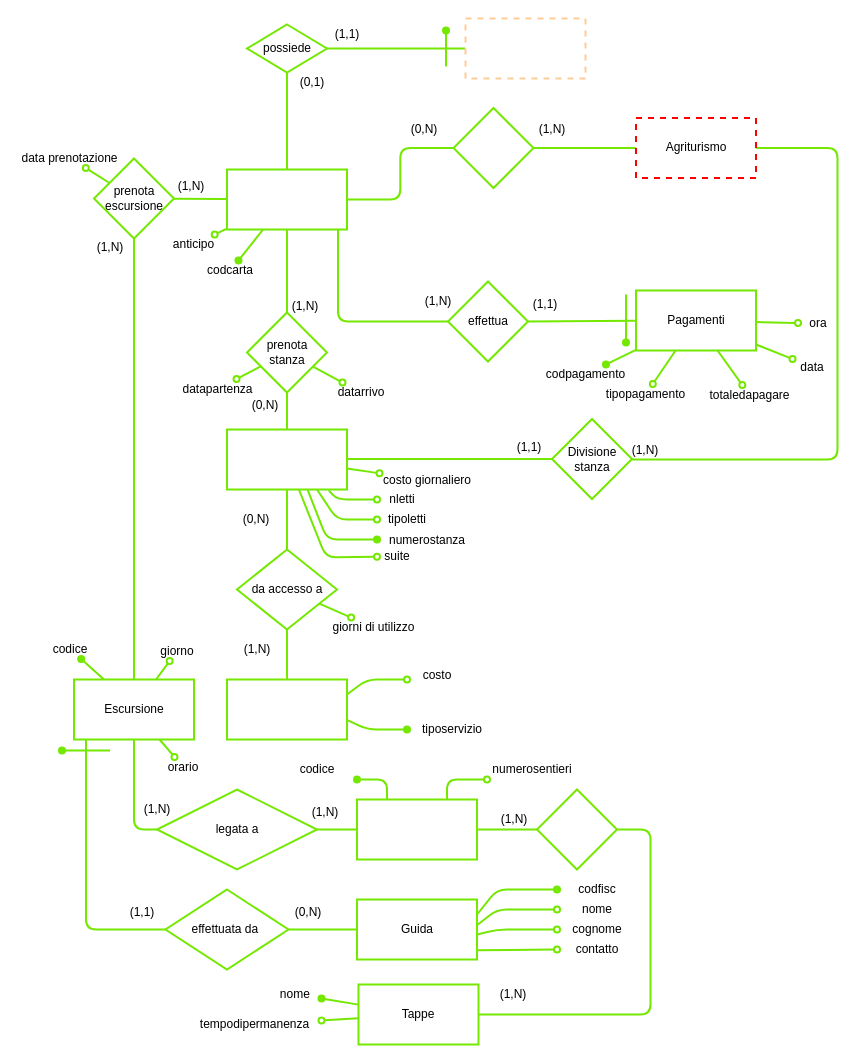
This 856x1062 diagram has some shape labels left out. The shapes that lost their labels are listed below. From the top down, each one's centre as x and y in pixels, then its label:
At pixel 525 48: "Account".
At pixel 493 147: "ospita".
At pixel 287 199: "Cliente".
At pixel 287 459: "Stanza".
At pixel 287 709: "Servizio Aggiuntivo".
At pixel 417 829: "Itinerario".
At pixel 577 829: "composto da".
